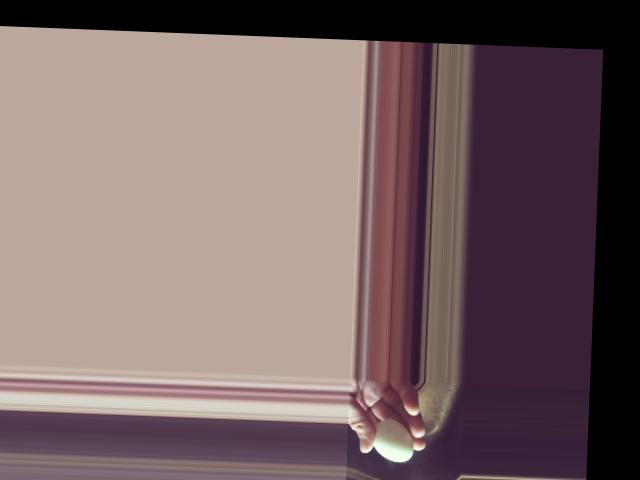egg: (372, 418, 414, 462)
